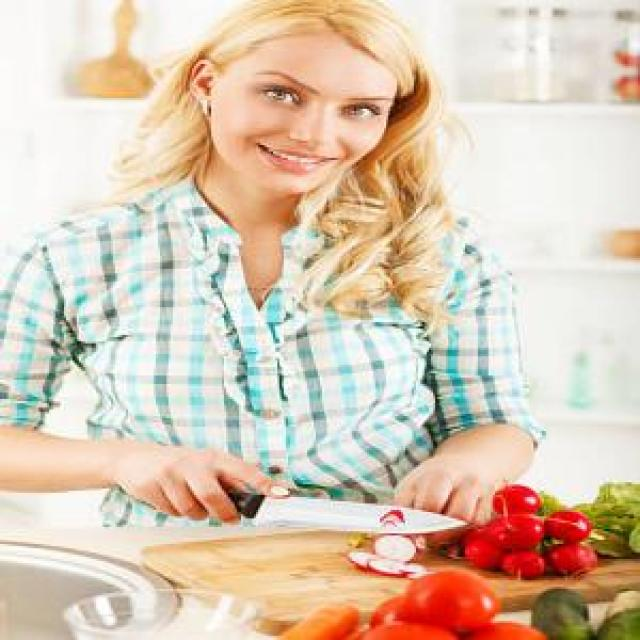knife: (162, 491, 475, 545)
